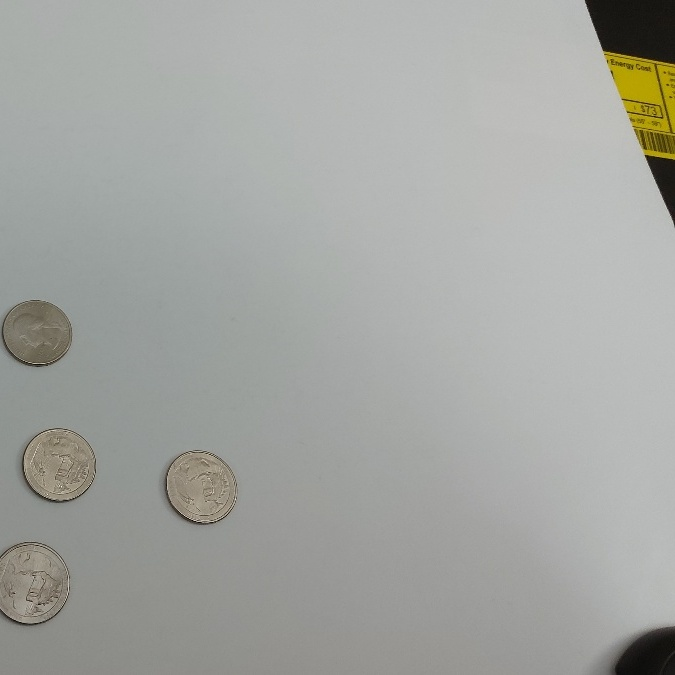coin_quarter: (160, 450, 240, 531), (21, 425, 96, 505), (1, 293, 74, 366)
